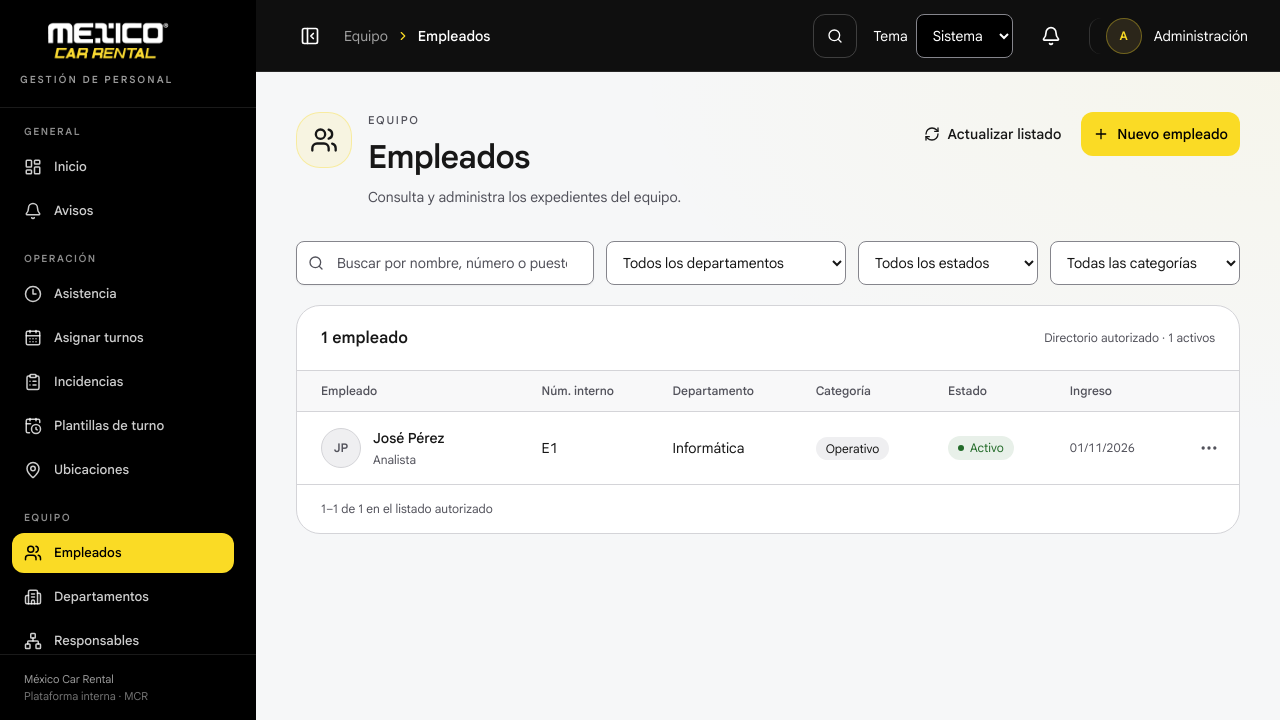
Test: expedientes y responsables › abre el alta bajo demanda y filtra sin perder el directorio
Expected: the heading "José Pérez" is shown, [373,428,444,448]
Expected: the field labelled "Nombre completo" is not shown
Type "sin coincidencias" into the search field named "Buscar empleados". click: (445, 262)
box: [296,240,594,284]
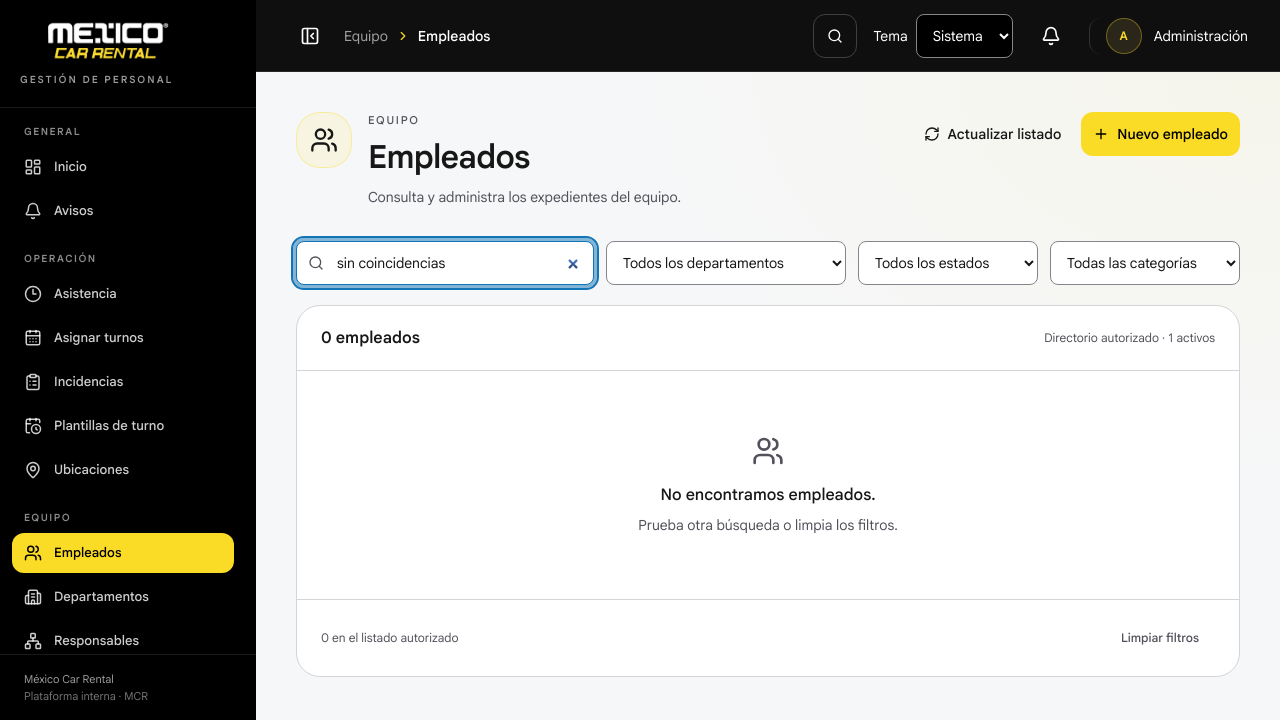
Result: the heading "No encontramos empleados." is shown at [660,484,876,504]
Click the button "Limpiar filtros". click: (1160, 638)
box: [1105,616,1215,660]
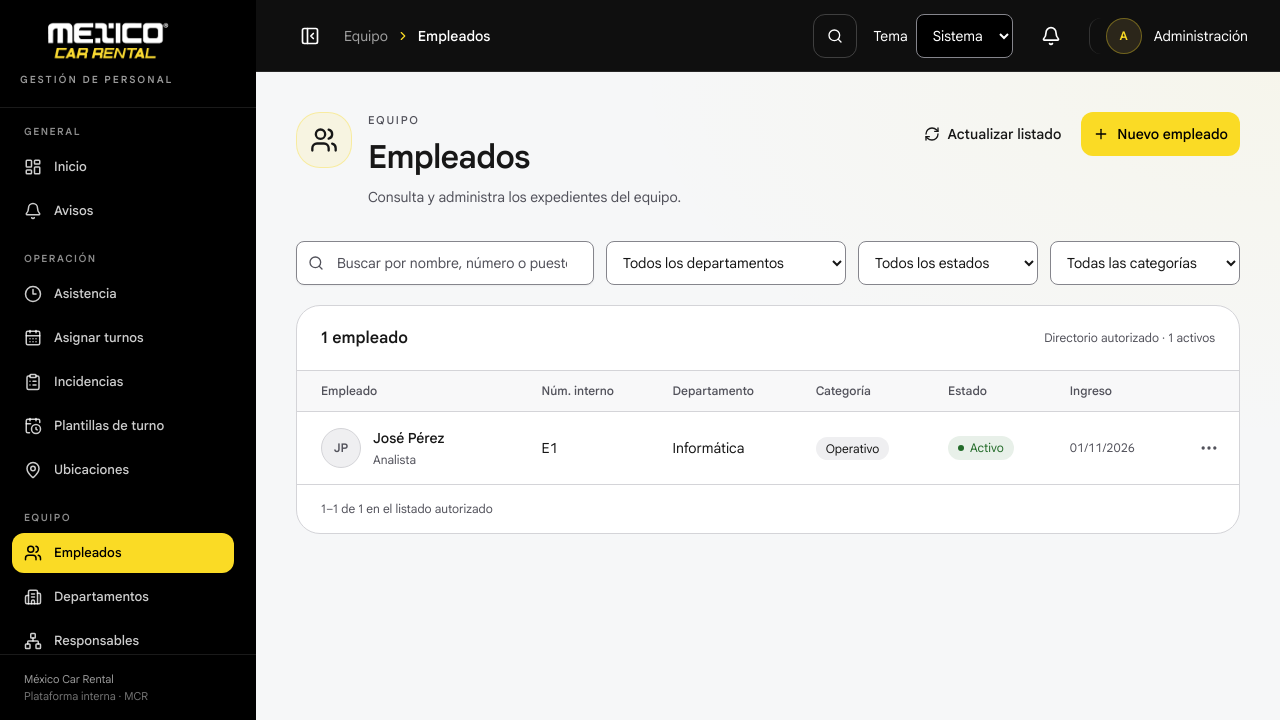
Result: the search field named "Buscar empleados" is empty at [296,240,594,284]
Click the button "Nuevo empleado". click: (1161, 134)
box: [1081,112,1240,156]
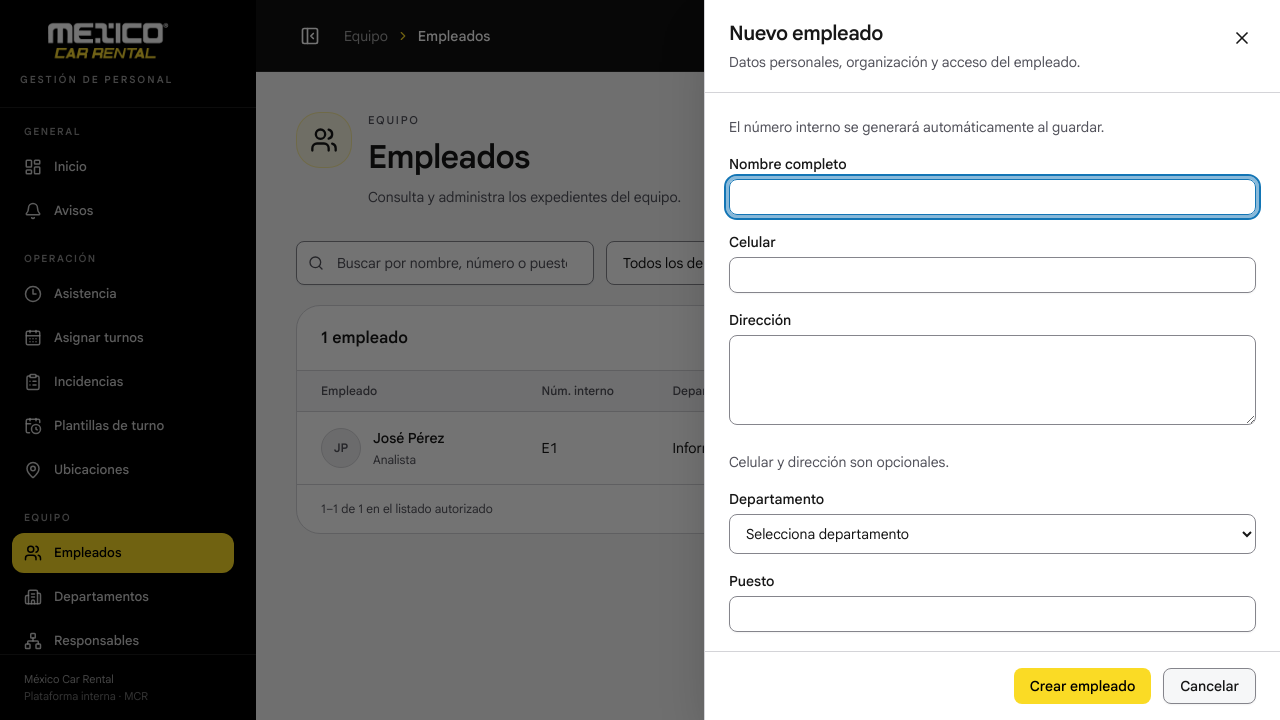
Result: the dialog "Nuevo empleado" is shown at [704,0,1279,719]
